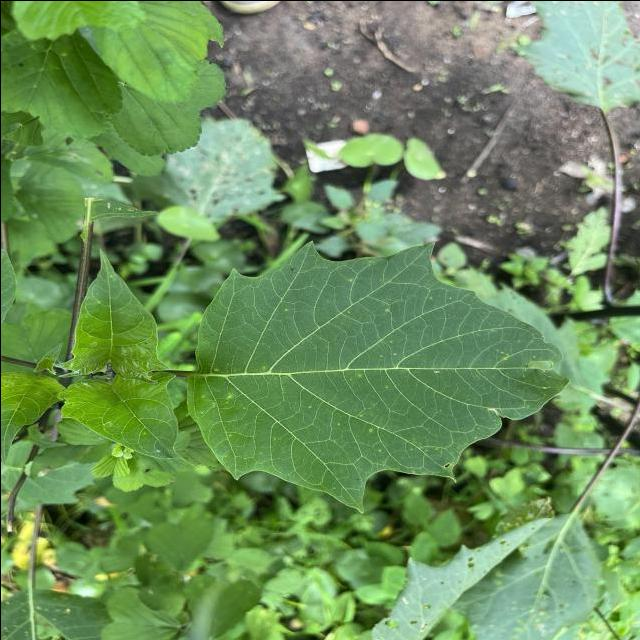Datura metal linn: (180, 232, 573, 520), (42, 245, 176, 388), (50, 366, 202, 471)
